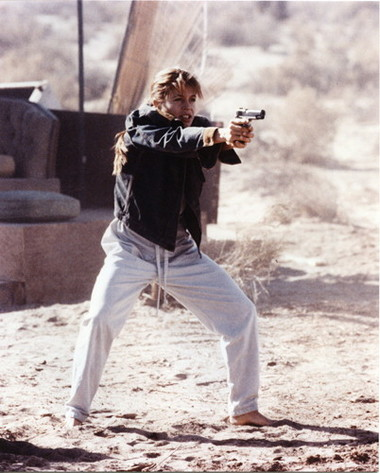pistol: (232, 106, 268, 146)
